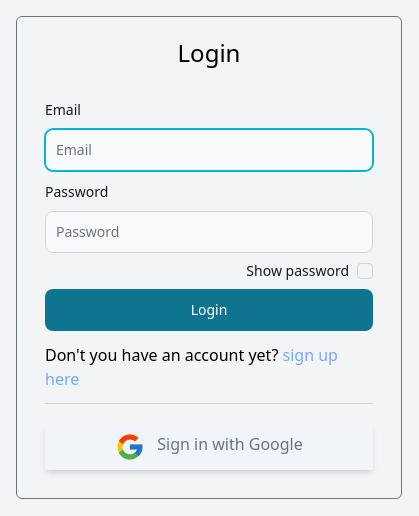
Test case: Login Component › renders loading state for button
The image size is (419, 516).
Type "test@example.com" into the field labelled "Email" at (209, 150), box [45,128,373,170]
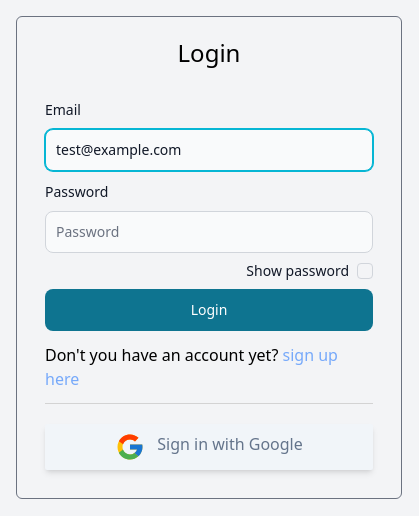
Type "123456" into the password field with test id "password" at (209, 232), box [45,210,373,252]
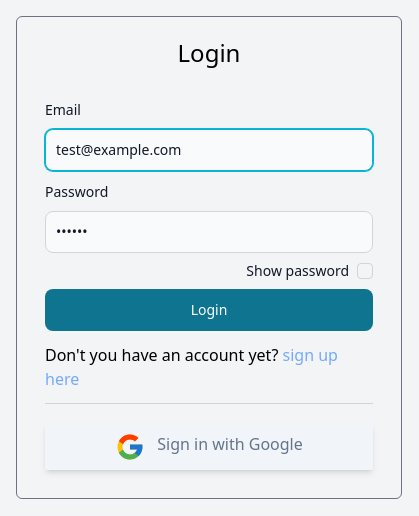
Click the button "Login" at (209, 310), box [45,288,373,330]
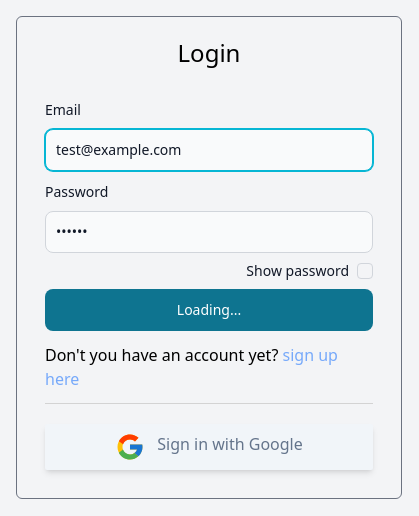
Now the button named "login" reads "Loading...", box [45,288,373,330]
